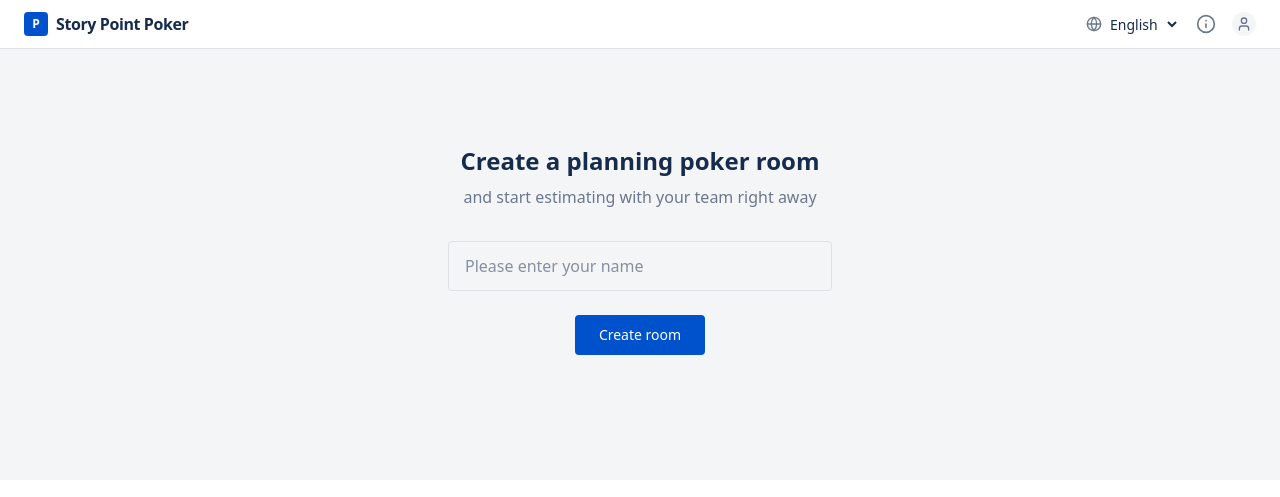
it: Create room — name validation › clears the error once the person starts fixing the name
This screenshot has width=1280, height=497.
Type "A" into the field with placeholder "Please enter your name" at (640, 266), box top-left (448, 241), bottom-right (832, 291)
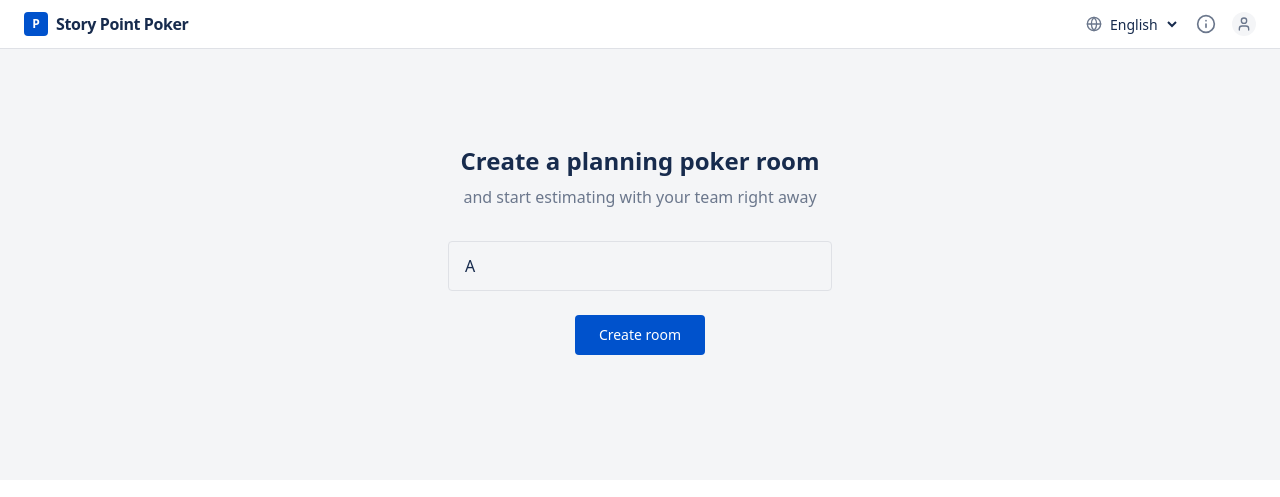
Click the button "Create room" at (640, 335), box top-left (575, 315), bottom-right (705, 355)
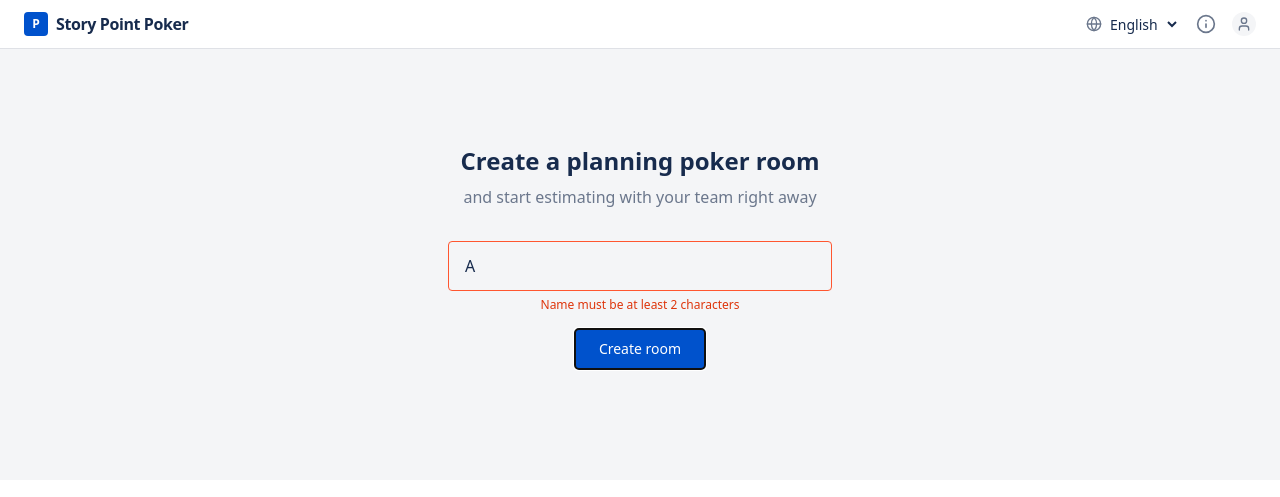
Check: the text "Name must be at least 2 characters" is shown, box top-left (540, 297), bottom-right (740, 313)
Type "lex" into the field with placeholder "Please enter your name" at (640, 266), box top-left (448, 241), bottom-right (832, 291)
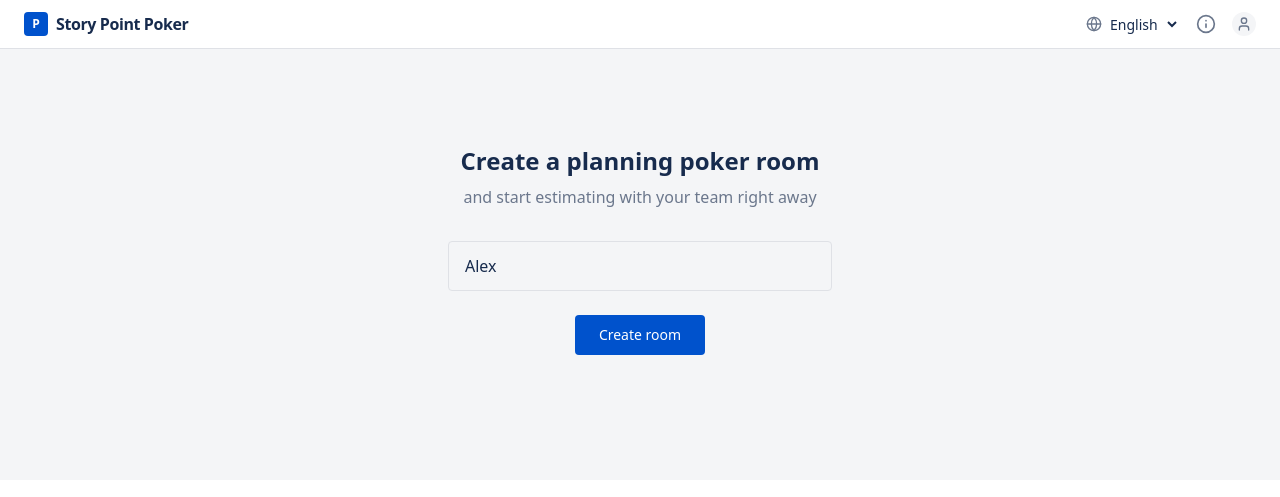
Check: the text "Name must be at least 2 characters" is gone
